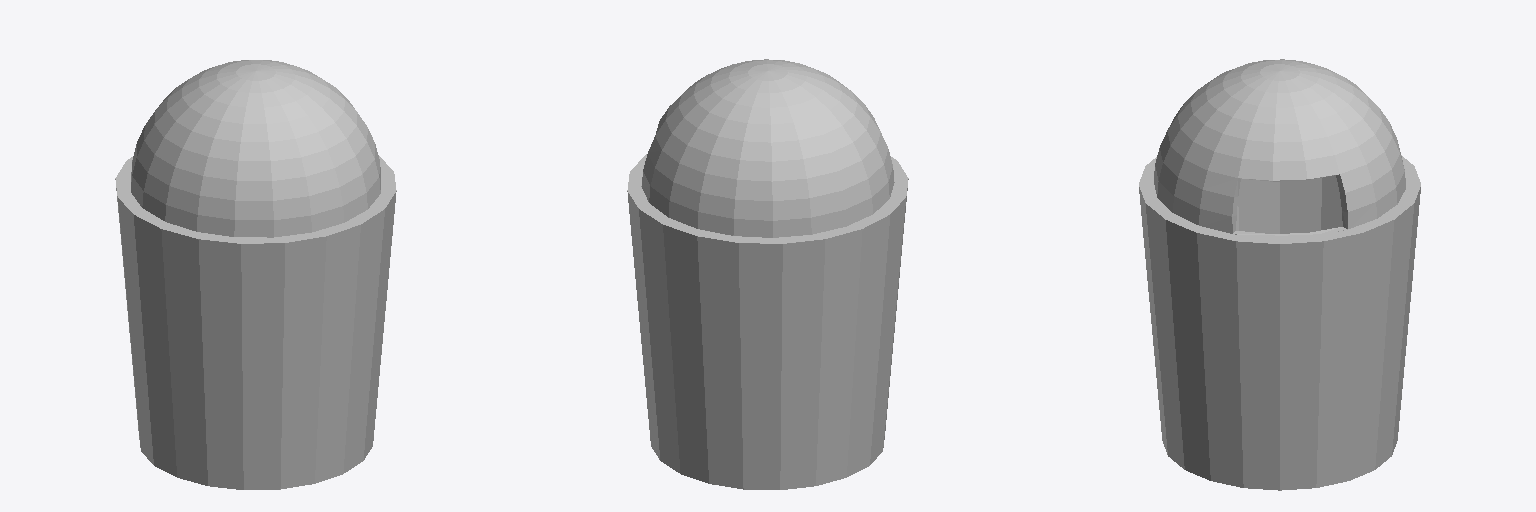
Rendered from Trash_Can.obj.
3 renders of one model, left to right at view 1: azimuth 30°, elevation 25°; view 2: azimuth 150°, elevation 25°; view 3: azimuth 270°, elevation 25°, orthographic.
Parts seen in each view (by area): view 1: Bottom Trash_Can2 Trash_Cans City_Decor, Trash_Can2 Trash_Cans City_Decor Lid; view 2: Bottom Trash_Can2 Trash_Cans City_Decor, Trash_Can2 Trash_Cans City_Decor Lid; view 3: Bottom Trash_Can2 Trash_Cans City_Decor, Trash_Can2 Trash_Cans City_Decor Lid.
Boxes of the visible parts, x1,y1,x2,y2 form: Bottom Trash_Can2 Trash_Cans City_Decor: [115, 156, 396, 489]; Trash_Can2 Trash_Cans City_Decor Lid: [131, 60, 380, 237]; Bottom Trash_Can2 Trash_Cans City_Decor: [627, 154, 908, 489]; Trash_Can2 Trash_Cans City_Decor Lid: [641, 59, 894, 237]; Bottom Trash_Can2 Trash_Cans City_Decor: [1139, 155, 1420, 490]; Trash_Can2 Trash_Cans City_Decor Lid: [1154, 59, 1405, 235].
Bounding box in the file's own units: 3.36 × 4.85 × 3.36.